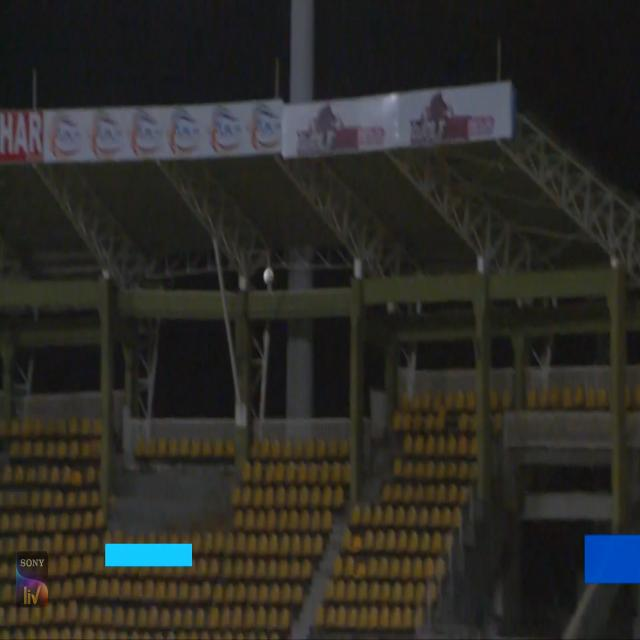ball: (262, 264, 276, 288)
